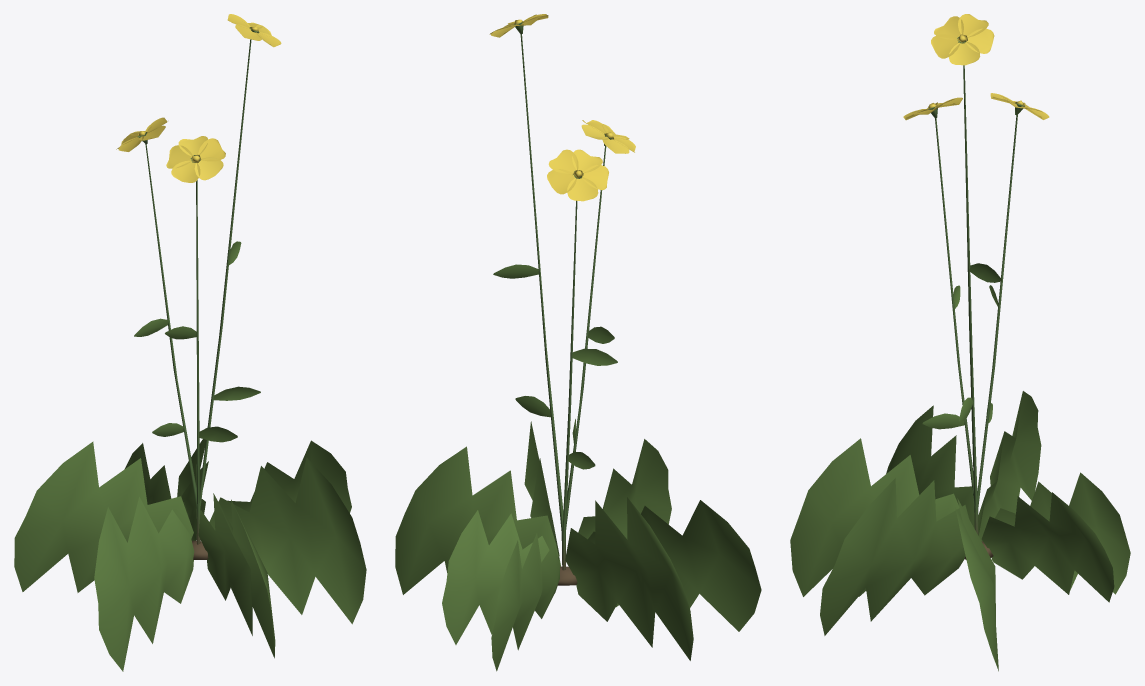
Rendered from Buttercup_lod1.glb.
3 views of the same model, side by side, from view 1: azimuth 30°, elevation 25°; view 2: azimuth 150°, elevation 25°; view 3: azimuth 270°, elevation 25° (orthographic). The views are drawn at different scales.
Visible parts, largest first — view 1: Plant_LOD1; view 2: Plant_LOD1; view 3: Plant_LOD1.
Part boxes in pixels (x1=…): Plant_LOD1: x1=14, y1=14, x2=366, y2=671; Plant_LOD1: x1=395, y1=14, x2=761, y2=671; Plant_LOD1: x1=790, y1=14, x2=1130, y2=671.
Size of the model in its own units: 0.269 by 0.4814 by 0.2428.
